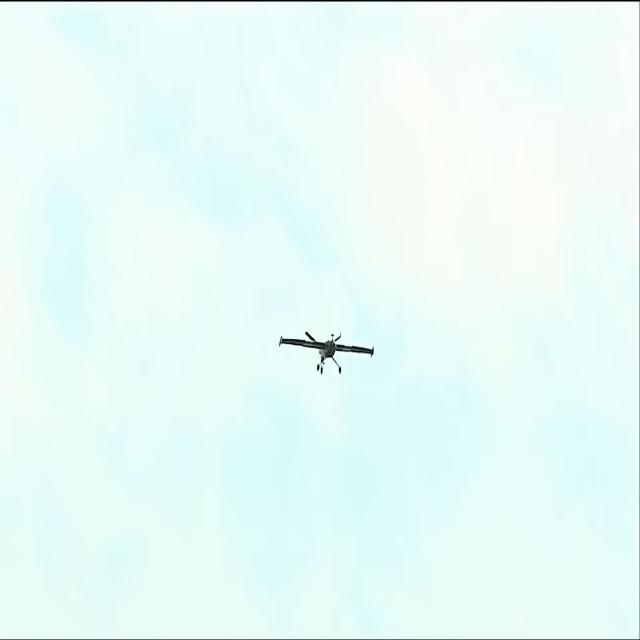iha: (303, 328, 337, 379)
